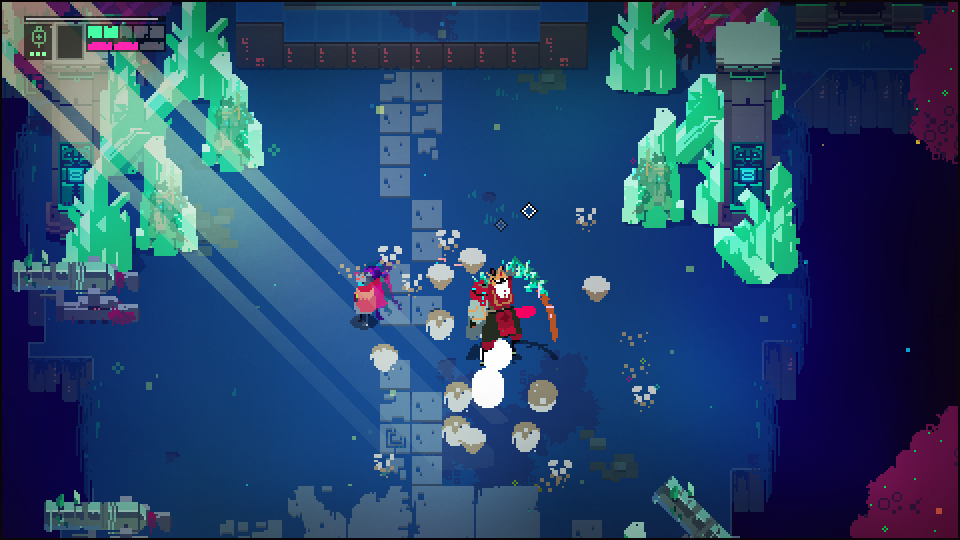hanged_man: (466, 261, 560, 369)
player: (349, 275, 379, 325)
